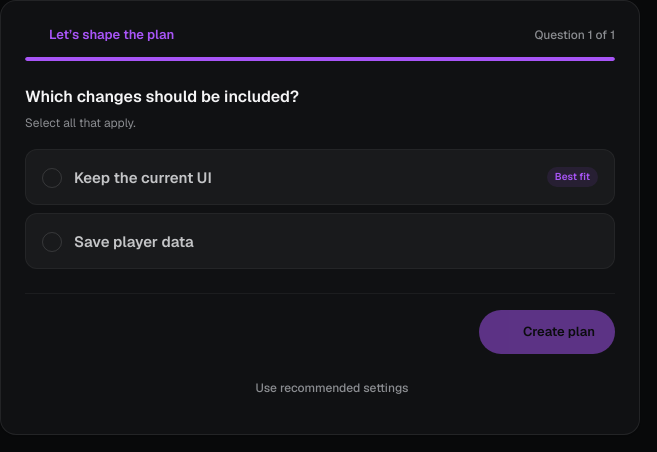
Scenario: interactive planning cards › supports multi-select defaults and recommendations without offering disallowed custom answers
Expected: the text "Best fit" is shown, [547, 167, 598, 187]
Click the button "Use recommended settings": (320, 388) [220, 366, 420, 410]
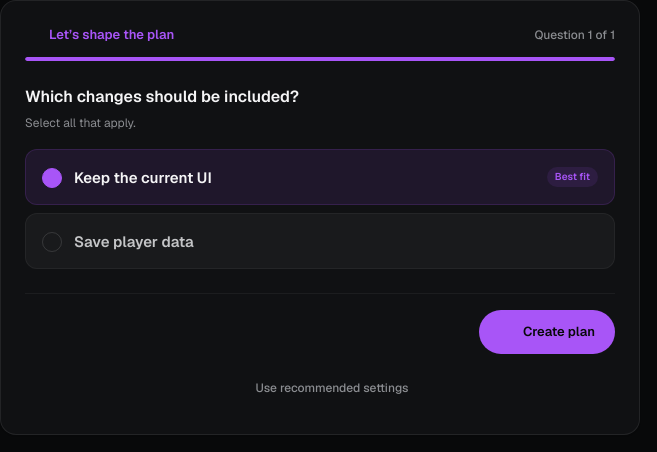
Now the button "Create plan" is enabled, box [479, 310, 615, 354]
